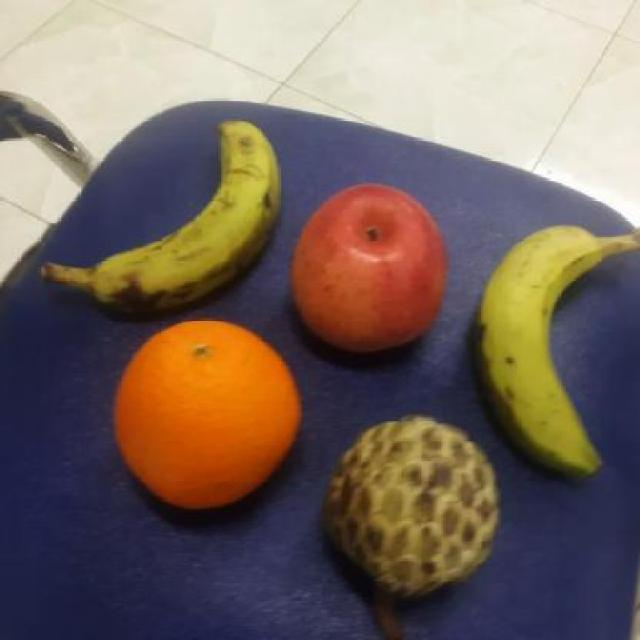apple: (284, 179, 455, 356)
banana: (92, 114, 286, 317), (474, 225, 611, 480)
oren: (109, 317, 300, 512)
sugar apple: (319, 413, 498, 590)
